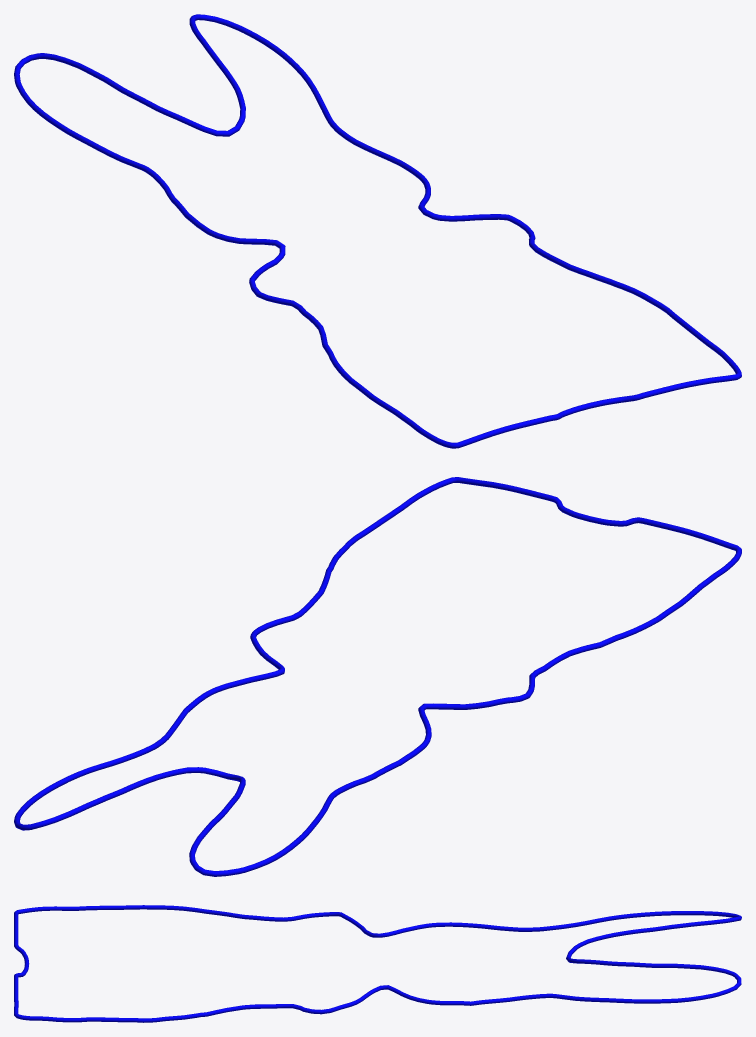
File: Step_YiMo_HuiZhi_TuZi_Xian_01.fbx
The picture shows the model from 3 angles, top to bottom: view 1: azimuth 30°, elevation 25°; view 2: azimuth 150°, elevation 25°; view 3: azimuth 270°, elevation 25°; orthographic projection. The views are drawn at different scales.
Parts seen in each view (by area): view 1: Step_YiMo_HuiZhi_TuZi_Xian_01; view 2: Step_YiMo_HuiZhi_TuZi_Xian_01; view 3: Step_YiMo_HuiZhi_TuZi_Xian_01.
Part boxes in pixels (x1,y1,x2,y2): Step_YiMo_HuiZhi_TuZi_Xian_01: [14, 14, 741, 448]; Step_YiMo_HuiZhi_TuZi_Xian_01: [14, 477, 741, 876]; Step_YiMo_HuiZhi_TuZi_Xian_01: [14, 905, 741, 1022].
Size of the model in its own units: 4.86 by 0.4586 by 12.99.
